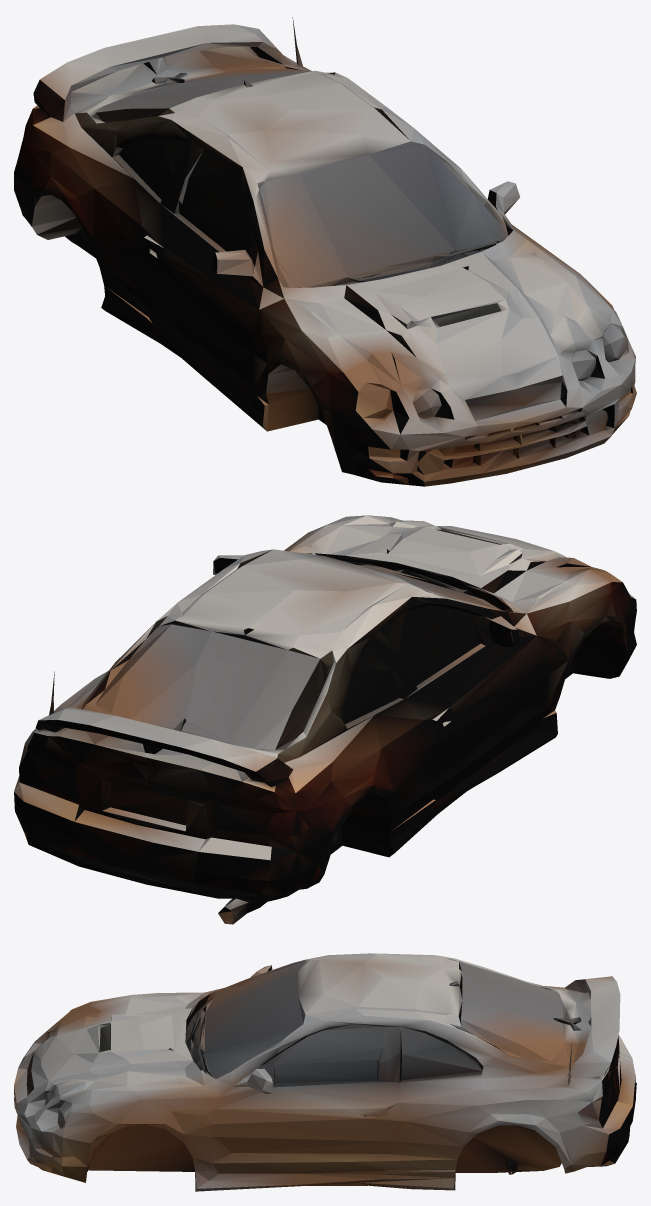
File: toyota_celica_gt4.glb
The picture shows the model from 3 angles, top to bottom: view 1: azimuth 30°, elevation 25°; view 2: azimuth 150°, elevation 25°; view 3: azimuth 270°, elevation 25°; orthographic projection. The views are drawn at different scales.
Visible parts, largest first — view 1: Wreck_toyota_celica_gt4; view 2: Wreck_toyota_celica_gt4; view 3: Wreck_toyota_celica_gt4.
Part boxes in pixels (x1,y1,x2,y2): Wreck_toyota_celica_gt4: (14,17,636,486); Wreck_toyota_celica_gt4: (14,515,636,924); Wreck_toyota_celica_gt4: (14,953,636,1191).
Size of the model in its own units: 1.97 by 1.27 by 4.42.
